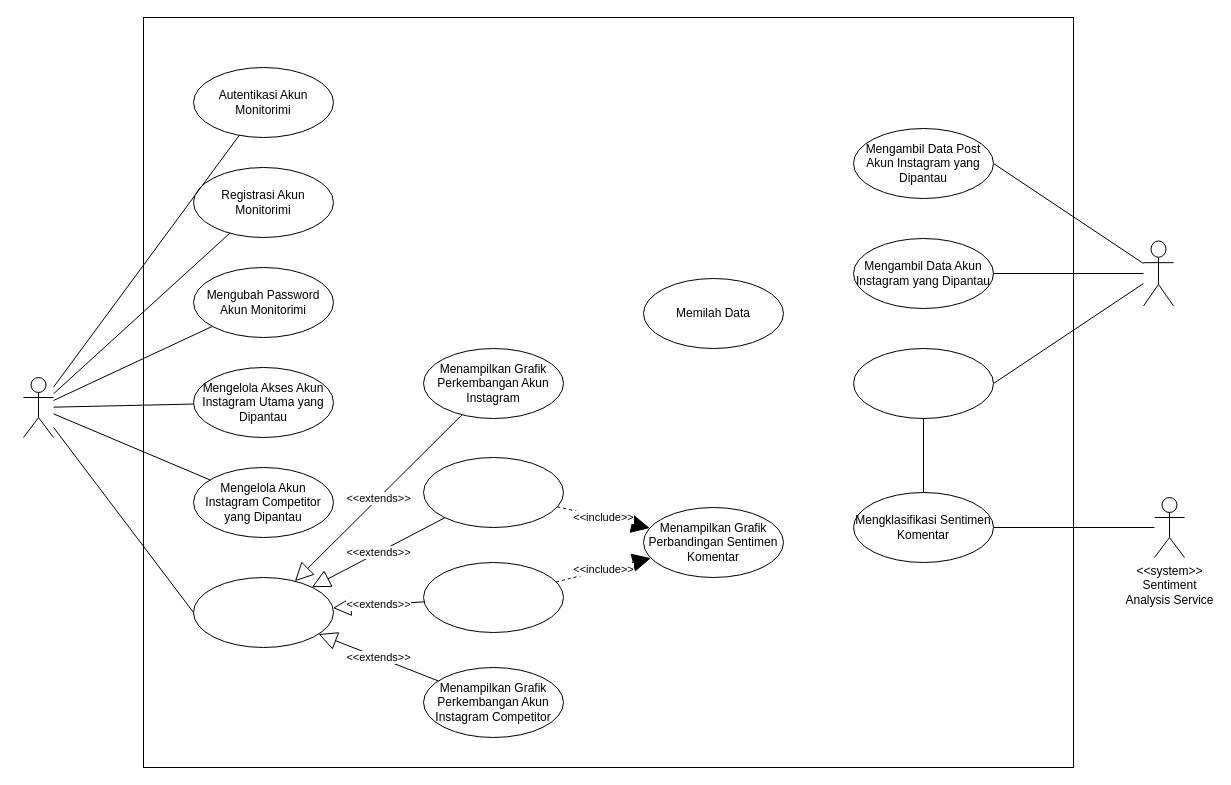
This 1231x785 diagram has some shape labels left out. Here are the shapes that lost their labels. From the top down, the centre of each, then its label:
(x=1158, y=273): <<system>> Scraper Service
(x=923, y=383): Mengambil Data Komentar Post Akun Instagram yang Dipantau
(x=38, y=407): Content Creator
(x=493, y=492): Menampilkan Grafik Perkembangan Post pada Akun Instagram
(x=263, y=612): Menampillkan Profil Akun Instagram yang Dipantau
(x=493, y=597): Menampilkan Grafik Perkembangan Post pada Akun Competitor
